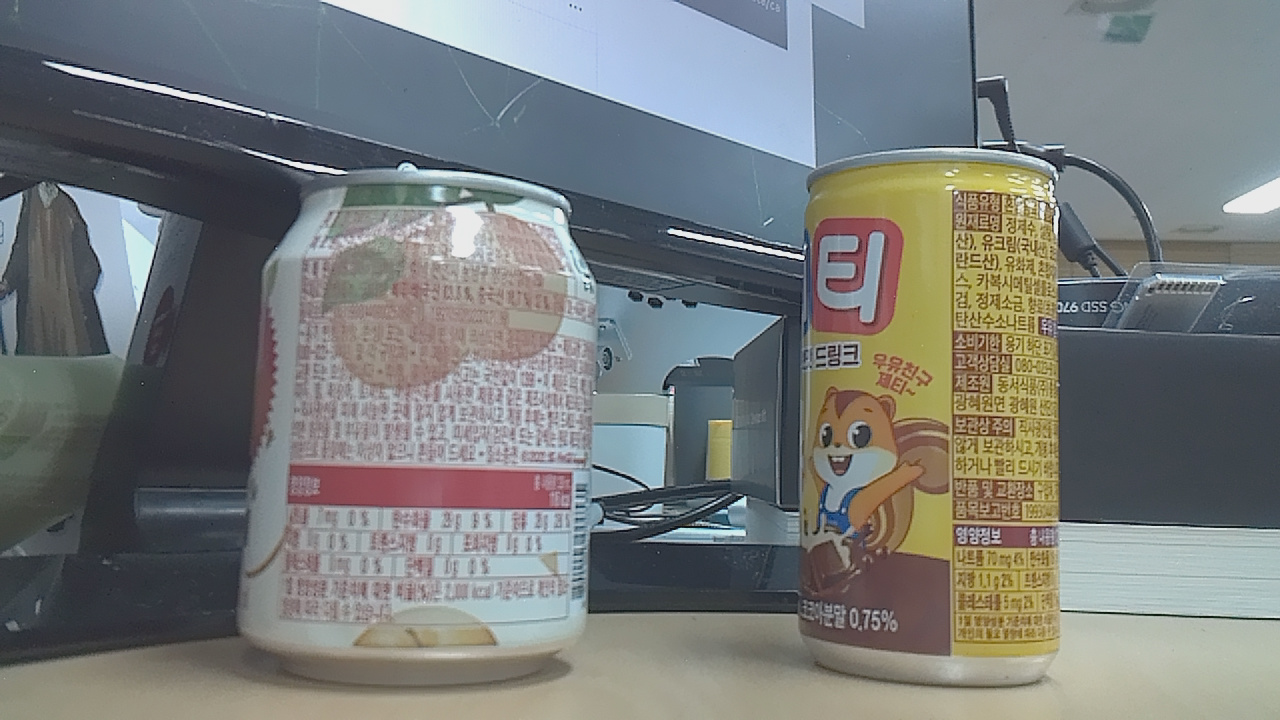IdH (pear juice): (247, 139, 618, 685)
jetty: (789, 128, 1082, 691)
